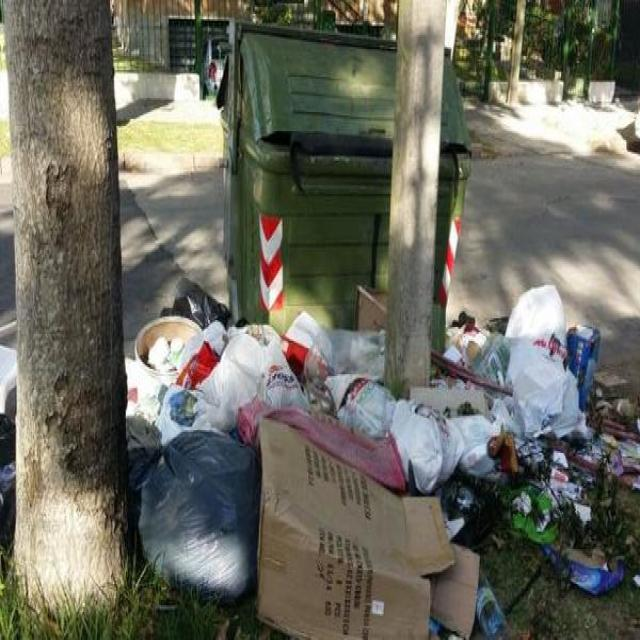garbage: (113, 282, 636, 635)
